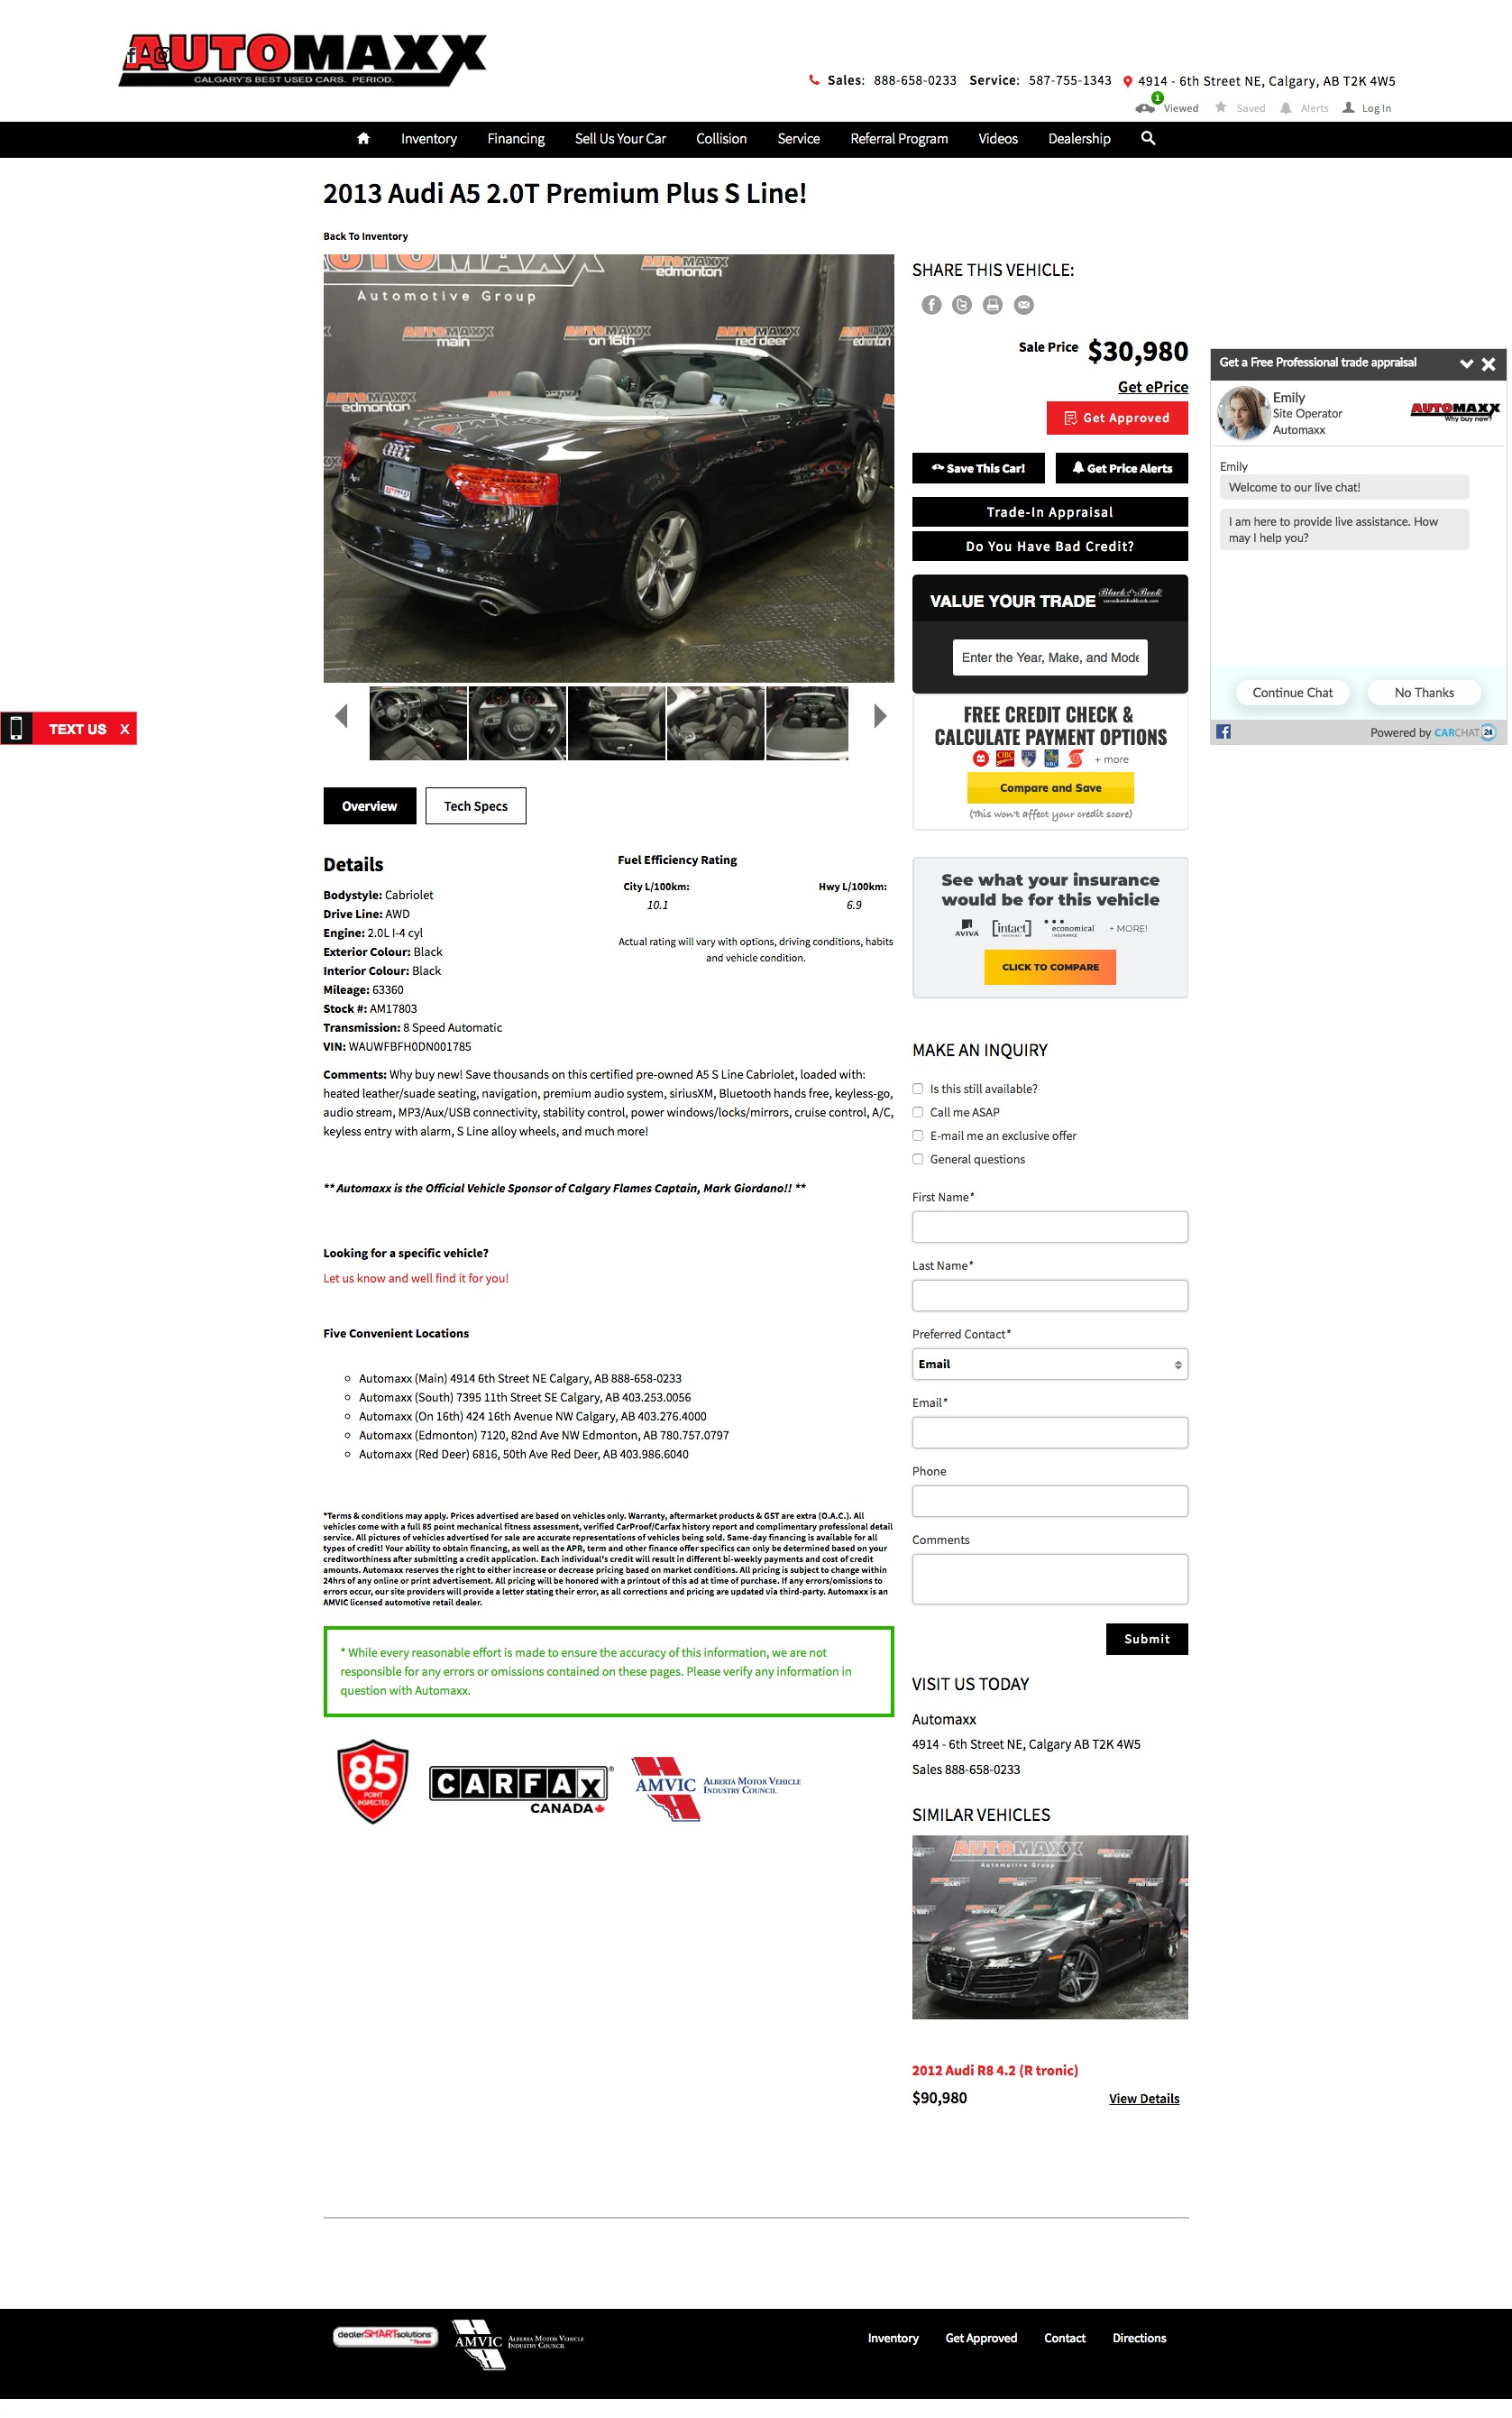car: (873, 702, 890, 730)
